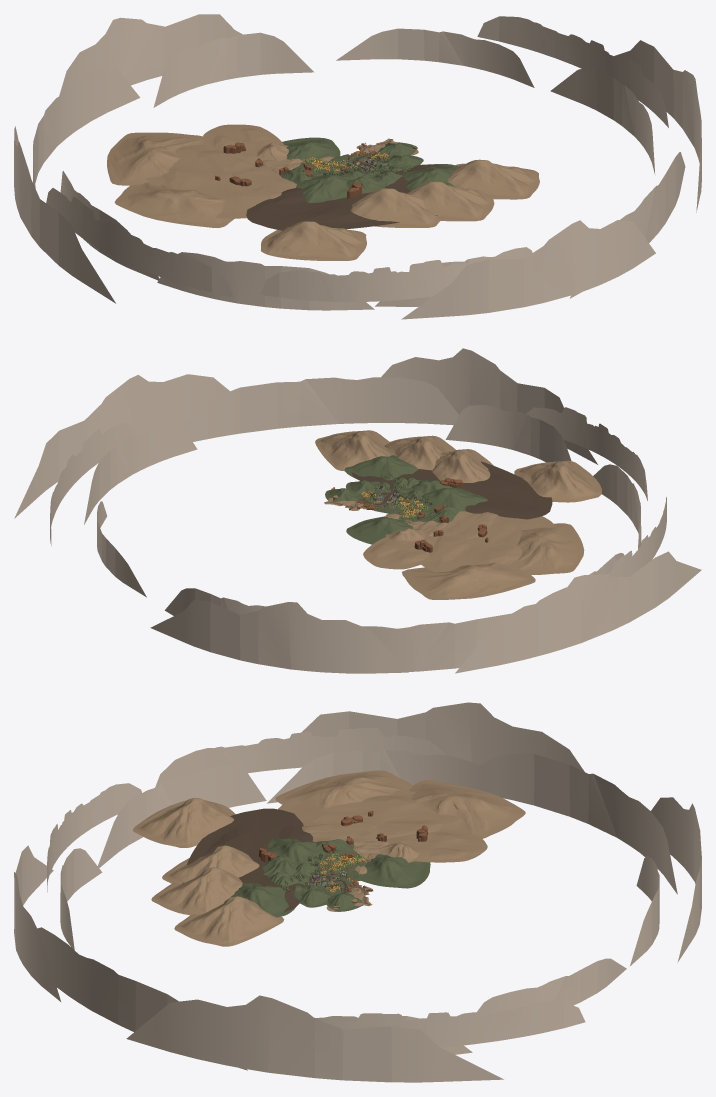
The model's file is Valentine.glb.
3 renders of one model, top to bottom at view 1: azimuth 30°, elevation 25°; view 2: azimuth 150°, elevation 25°; view 3: azimuth 270°, elevation 25°, orthographic. The views are drawn at different scales.
Visible parts, largest first — view 1: SM_Env_BackgroundCard_03__1_, SM_Env_BackgroundCard_03, SM_Env_BackgroundCard_02__1_, SM_Env_BackgroundCard_01, SM_Env_BackgroundCard_02__3_, SM_Env_BackgroundCard_01__7_, SM_Env_BackgroundCard_02__2_, SM_Env_BackgroundCard_01__6_, SM_Env_Mound_Large_02__60_, SM_Env_BackgroundCard_03__3_, SM_Env_BackgroundCard_01__4_, SM_Env_Mound_Large_02__61_ (+16 smaller); view 2: SM_Env_BackgroundCard_01__5_, SM_Env_BackgroundCard_03, SM_Env_BackgroundCard_03__3_, SM_Env_BackgroundCard_03__2_, SM_Env_BackgroundCard_03__1_, SM_Env_BackgroundCard_01__6_, SM_Env_BackgroundCard_01__1_, SM_Env_Mound_Large_02__60_, SM_Env_BackgroundCard_01__2_, SM_Env_Mound_Large_02__61_, SM_Env_Mound_Hill_02__12_, SM_Env_BackgroundCard_02__1_ (+15 smaller); view 3: SM_Env_BackgroundCard_03__2_, SM_Env_BackgroundCard_01__6_, SM_Env_BackgroundCard_03__3_, SM_Env_BackgroundCard_02__3_, SM_Env_BackgroundCard_02__2_, SM_Env_BackgroundCard_01__5_, SM_Env_BackgroundCard_01__4_, SM_Env_BackgroundCard_01__3_, SM_Env_Mound_Large_02__60_, SM_Env_Mound_Large_02__61_, SM_Env_Mound_Hill_02__12_, SM_Env_BackgroundCard_03__1_ (+15 smaller).
Part boxes in pixels (x1,y1,x2,y2): SM_Env_BackgroundCard_03__1_: (401,220,655,319); SM_Env_BackgroundCard_03: (59,14,242,96); SM_Env_BackgroundCard_02__1_: (260,260,474,301); SM_Env_BackgroundCard_01: (153,32,313,107); SM_Env_BackgroundCard_02__3_: (46,188,233,297); SM_Env_BackgroundCard_01__7_: (336,28,534,87); SM_Env_BackgroundCard_02__2_: (477,16,668,127); SM_Env_BackgroundCard_01__6_: (33,67,140,188); SM_Env_Mound_Large_02__60_: (145,144,285,218); SM_Env_BackgroundCard_03__3_: (14,126,115,303); SM_Env_BackgroundCard_01__4_: (157,252,374,310); SM_Env_Mound_Large_02__61_: (246,164,444,230); SM_Env_BackgroundCard_01__5_: (182,377,459,441); SM_Env_BackgroundCard_03: (150,599,408,673); SM_Env_BackgroundCard_03__3_: (455,551,701,673); SM_Env_BackgroundCard_03__2_: (14,374,229,518); SM_Env_BackgroundCard_03__1_: (381,348,597,464); SM_Env_BackgroundCard_01__6_: (362,613,511,671); SM_Env_BackgroundCard_01__1_: (445,405,571,462); SM_Env_Mound_Large_02__60_: (421,513,556,572); SM_Env_BackgroundCard_01__2_: (84,420,197,524); SM_Env_Mound_Large_02__61_: (351,451,552,519); SM_Env_Mound_Hill_02__12_: (402,562,535,599); SM_Env_BackgroundCard_02__1_: (526,407,647,500); SM_Env_BackgroundCard_03__2_: (126,995,503,1082); SM_Env_BackgroundCard_01__6_: (478,754,677,894); SM_Env_BackgroundCard_03__3_: (301,702,584,771); SM_Env_BackgroundCard_02__3_: (155,728,445,787); SM_Env_BackgroundCard_02__2_: (323,1001,585,1047); SM_Env_BackgroundCard_01__5_: (37,927,247,1070); SM_Env_BackgroundCard_01__4_: (98,765,266,867); SM_Env_BackgroundCard_01__3_: (267,750,495,803); SM_Env_Mound_Large_02__60_: (278,790,465,838); SM_Env_Mound_Large_02__61_: (182,808,312,911); SM_Env_Mound_Hill_02__12_: (409,780,525,838); SM_Env_BackgroundCard_03__1_: (14,845,60,1001).
Bounding box in the file's own units: 1474 × 181 × 1359.
21 materials, 15 textured.
